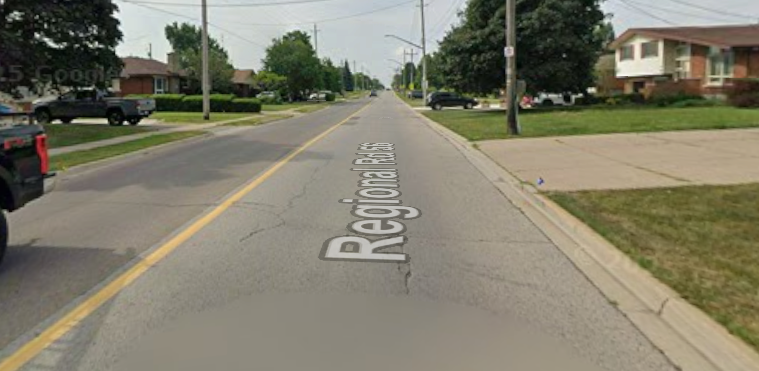cracks: (96, 192, 287, 247), (386, 232, 430, 307)
